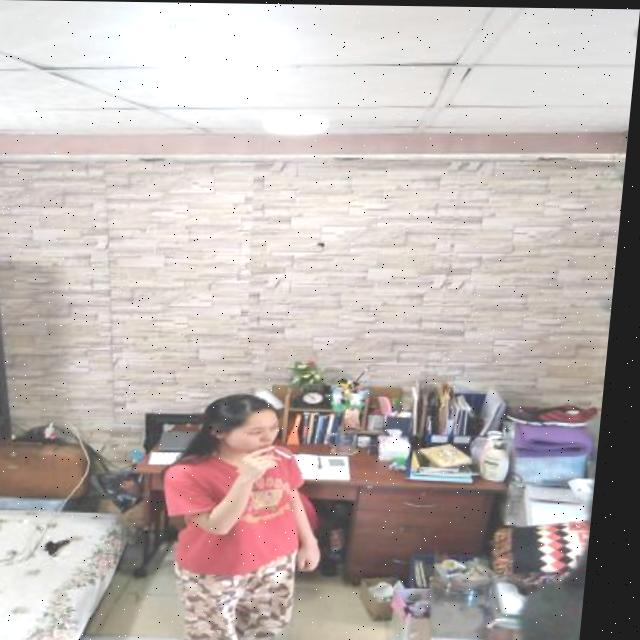cigarette: (280, 447, 302, 457)
